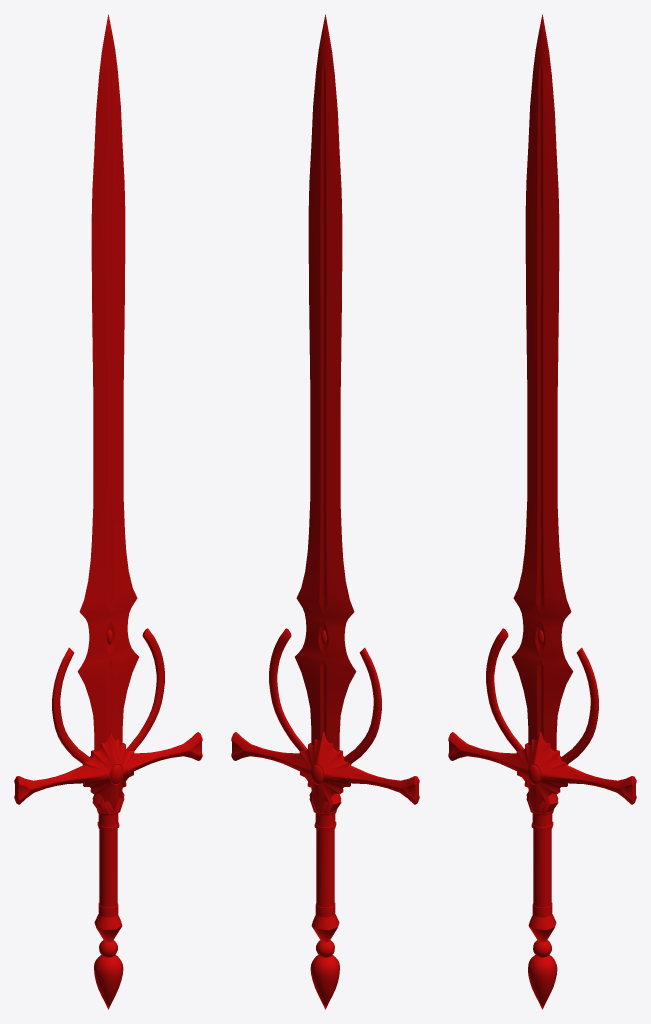
The model's file is SWORD007.FBX.
The picture shows the model from 3 angles, left to right: view 1: azimuth 30°, elevation 25°; view 2: azimuth 150°, elevation 25°; view 3: azimuth 330°, elevation 25°; orthographic projection.
Parts seen in each view (by area): view 1: Sword007_Blade, Sword007_Crossbar, Sword007_Handle, Sword007_Spikes, Sword007_Pommel; view 2: Sword007_Blade, Sword007_Crossbar, Sword007_Handle, Sword007_Spikes, Sword007_Pommel; view 3: Sword007_Blade, Sword007_Crossbar, Sword007_Handle, Sword007_Spikes, Sword007_Pommel.
Part boxes in pixels (x1,y1,x2,y2): Sword007_Blade: (77, 14, 138, 751); Sword007_Crossbar: (14, 731, 202, 810); Sword007_Handle: (92, 791, 124, 942); Sword007_Spikes: (52, 628, 164, 764); Sword007_Pommel: (94, 940, 123, 1009); Sword007_Blade: (295, 14, 356, 751); Sword007_Crossbar: (231, 731, 419, 810); Sword007_Handle: (309, 791, 341, 942); Sword007_Spikes: (269, 628, 381, 764); Sword007_Pommel: (310, 940, 339, 1009); Sword007_Blade: (512, 14, 573, 751); Sword007_Crossbar: (448, 731, 636, 810); Sword007_Handle: (526, 791, 558, 942); Sword007_Spikes: (486, 628, 598, 764); Sword007_Pommel: (528, 940, 557, 1009).
Bounding box in the file's own units: 0.2401 × 1.24 × 0.045.
